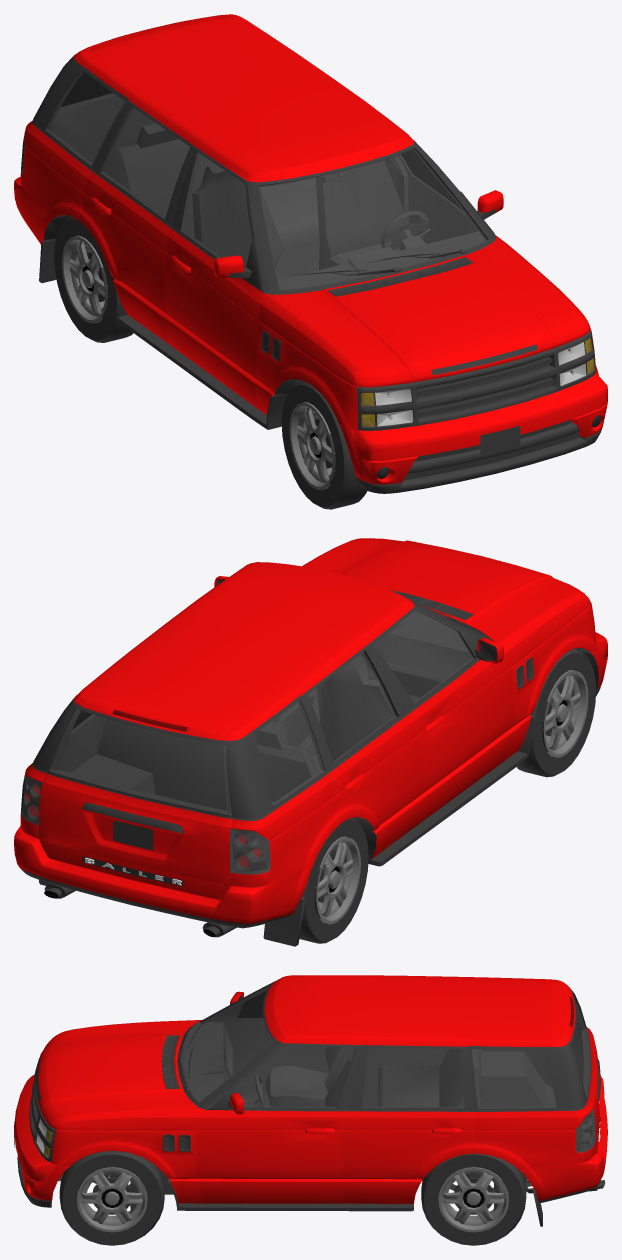
Rendered from car_gallivanter_baller.glb.
3 renders of one model, top to bottom at view 1: azimuth 30°, elevation 25°; view 2: azimuth 150°, elevation 25°; view 3: azimuth 270°, elevation 25°, orthographic. The views are drawn at different scales.
Parts seen in each view (by area): view 1: Material3 (×21), Material2 (×4); view 2: Material2 (×5), Material3 (×16); view 3: Material2 (×5), Material3 (×21).
Part boxes in pixels (x1,y1,x2,y2): Material3 (×21): [21, 55, 601, 509]; Material2 (×4): [14, 14, 607, 484]; Material2 (×5): [14, 538, 607, 923]; Material3 (×16): [21, 590, 601, 946]; Material2 (×5): [14, 975, 607, 1203]; Material3 (×21): [14, 981, 605, 1245].
Size of the model in its own units: 51.49 by 42.15 by 117.
